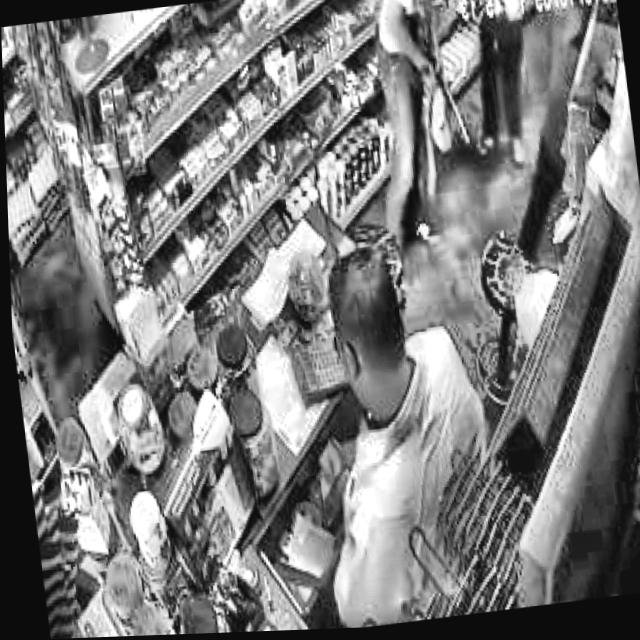robbery: (353, 0, 491, 249)
